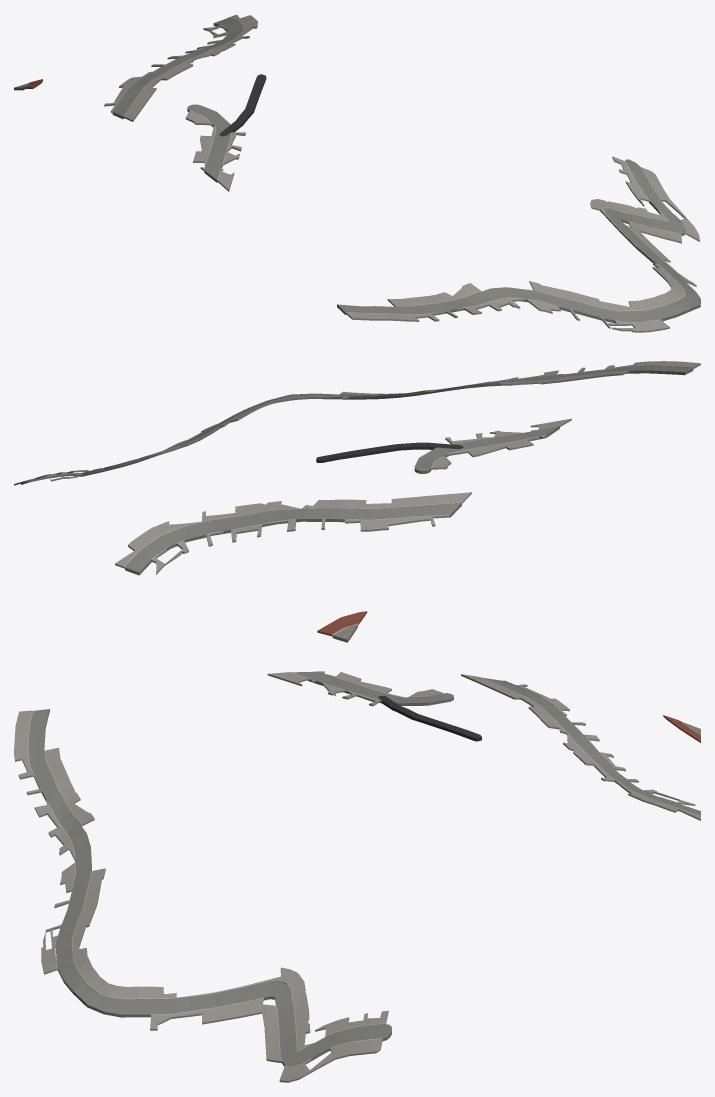
3 views of the same model, one above another, from view 1: azimuth 30°, elevation 25°; view 2: azimuth 150°, elevation 25°; view 3: azimuth 270°, elevation 25° (orthographic). The views are drawn at different scales.
Bounding box in the file's own units: 217 × 76.52 × 266.
